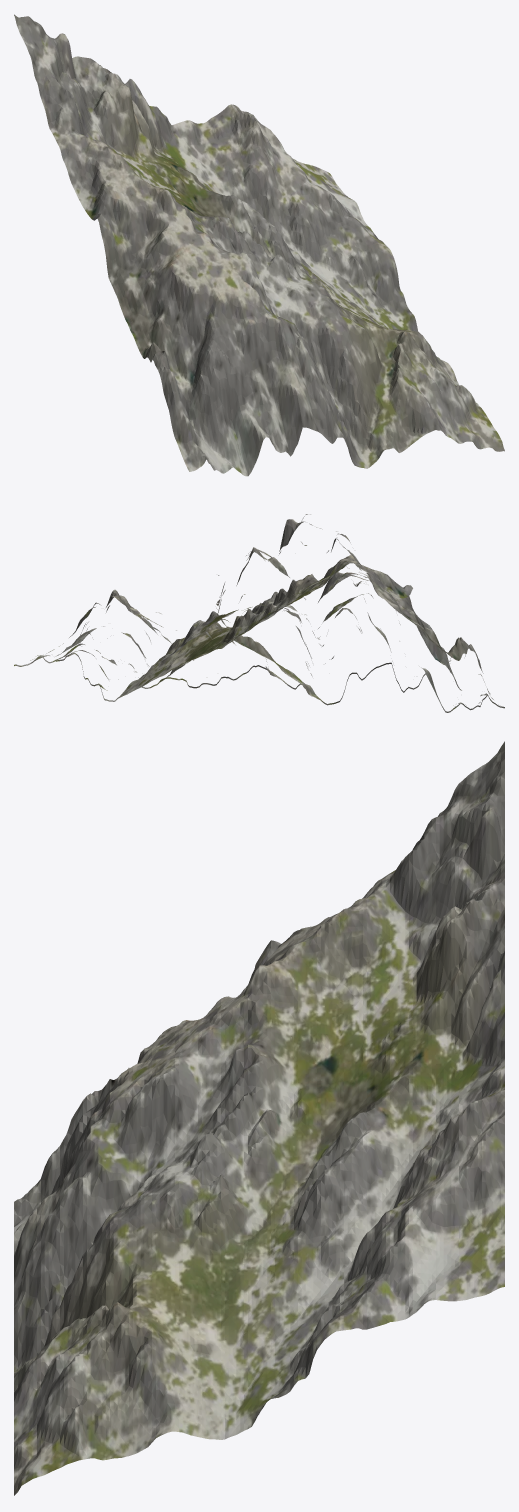
The picture shows the model from 3 angles, top to bottom: view 1: azimuth 30°, elevation 25°; view 2: azimuth 150°, elevation 25°; view 3: azimuth 270°, elevation 25°; orthographic projection. The views are drawn at different scales.
Size of the model in its own units: 250 by 293 by 241.
1 material, 1 textured.
